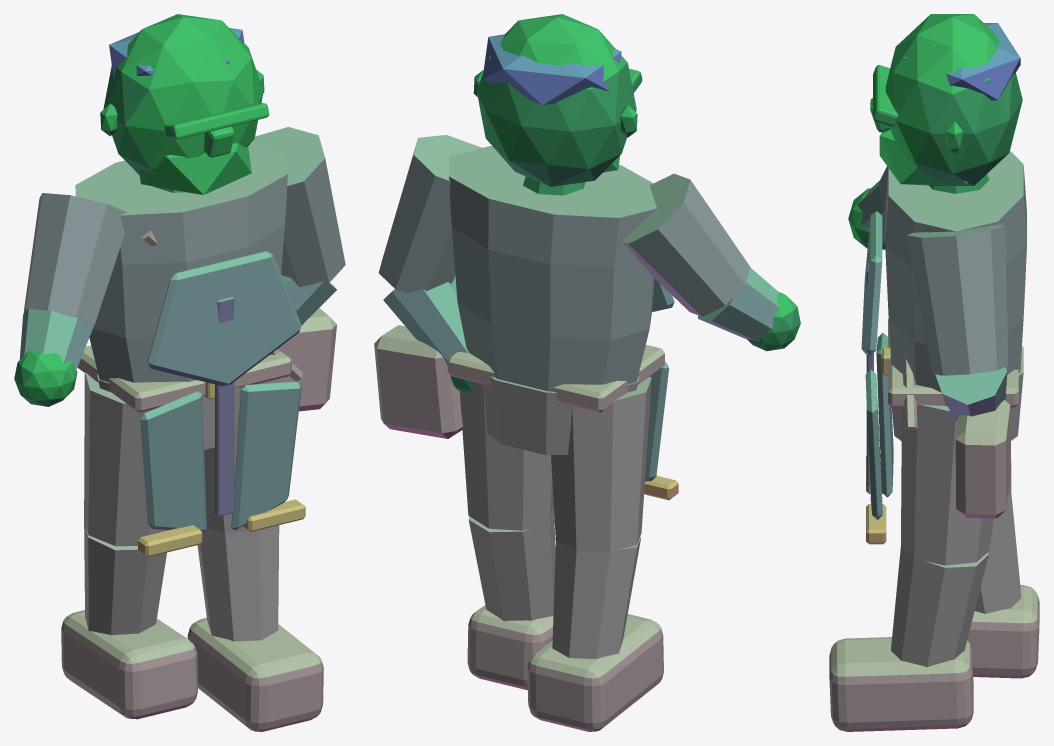
Rendered from npc_merchant_down_r_v01.glb.
3 views of the same model, side by side, from view 1: azimuth 30°, elevation 25°; view 2: azimuth 150°, elevation 25°; view 3: azimuth 270°, elevation 25° (orthographic).
Visible parts, largest first — view 1: GEO_npc_merchant_down_r_v01; view 2: GEO_npc_merchant_down_r_v01; view 3: GEO_npc_merchant_down_r_v01.
Part boxes in pixels (x1,y1,x2,y2): GEO_npc_merchant_down_r_v01: (14, 14, 345, 731); GEO_npc_merchant_down_r_v01: (374, 14, 800, 731); GEO_npc_merchant_down_r_v01: (829, 14, 1039, 731).
Size of the model in its own units: 1.18 by 2.08 by 0.5819.
